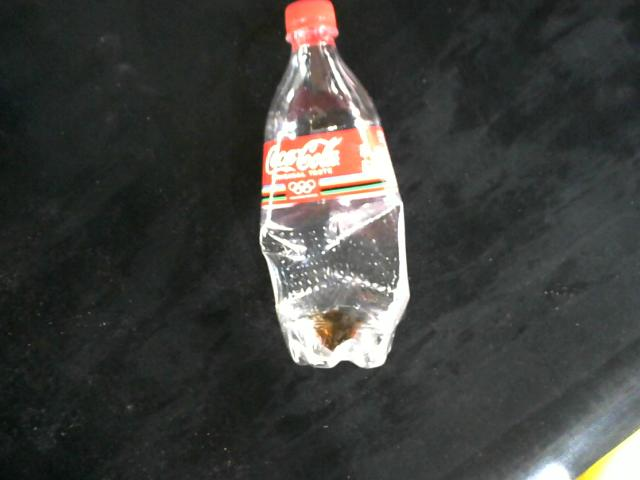bottle: (259, 0, 411, 370)
